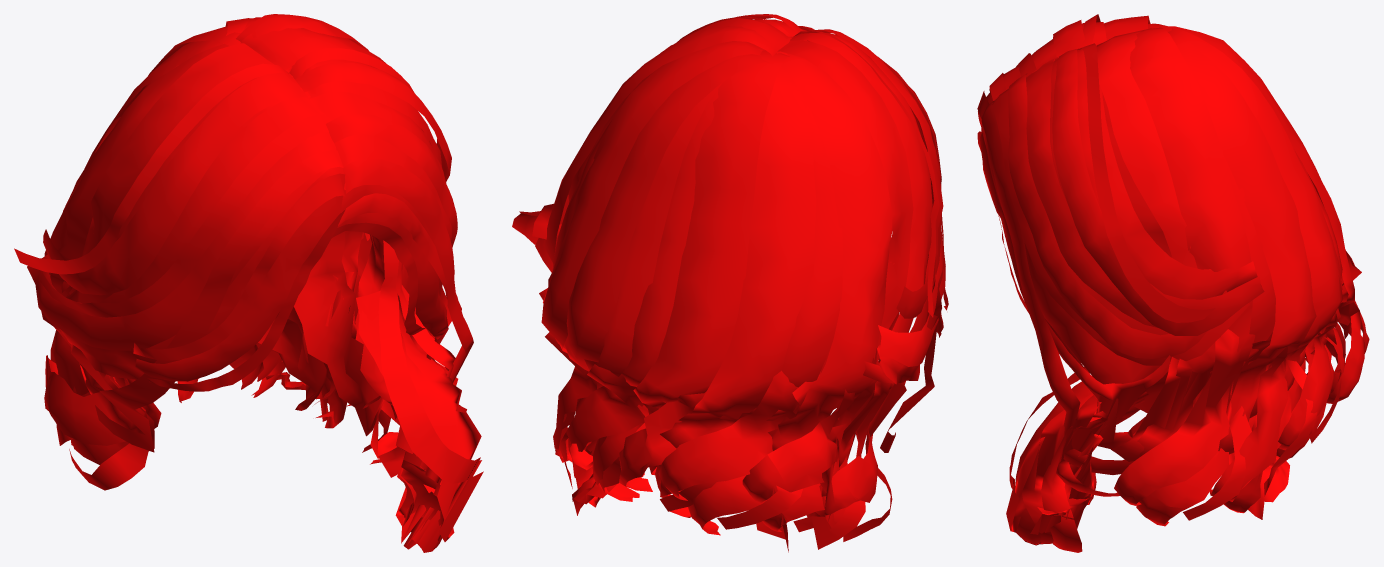
The model's file is elvs_ashley_may_hair_F.glb.
3 views of the same model, side by side, from view 1: azimuth 30°, elevation 25°; view 2: azimuth 150°, elevation 25°; view 3: azimuth 270°, elevation 25° (orthographic). The views are drawn at different scales.
Size of the model in its own units: 0.2939 by 0.3487 by 0.2582.
1 material, 1 textured.
